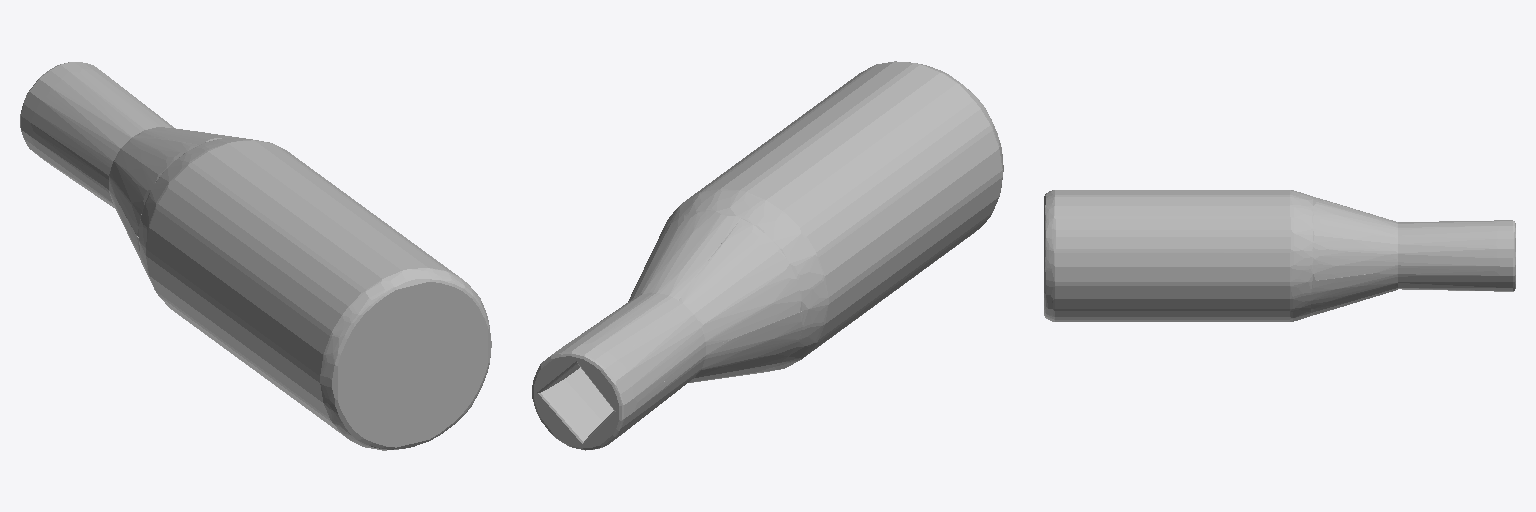
URDF robot description (root):
<robot name="root">
  <link name="link_coacd_convex_piece_0">
    <inertial>
      <origin xyz="0 0 0" rpy="0 0 0"/>
      <inertia ixx="1.54E-03" ixy="-2.03E-04" ixz="-1.68E-05" iyy="5.09E-05" iyz="-2.02E-04" izz="1.54E-03"/>
    </inertial>
    <visual>
      <origin xyz="0 0 0" rpy="0 0 0"/>
      <geometry>
        <mesh filename="coacd_convex_piece_0.obj" scale="1.0000E+00 1.0000E+00 1.0000E+00"/>
      </geometry>
      <material name="">
        <color rgba="7.50E-01 7.50E-01 7.50E-01 1"/>
      </material>
    </visual>
    <collision>
      <origin xyz="0 0 0" rpy="0 0 0"/>
      <geometry>
        <mesh filename="coacd_convex_piece_0.obj" scale="1.0000E+00 1.0000E+00 1.0000E+00"/>
      </geometry>
    </collision>
  </link>
  <link name="link_coacd_convex_piece_1">
    <inertial>
      <origin xyz="0 0 0" rpy="0 0 0"/>
      <inertia ixx="1.55E-03" ixy="2.02E-04" ixz="1.67E-05" iyy="5.11E-05" iyz="-2.04E-04" izz="1.55E-03"/>
    </inertial>
    <visual>
      <origin xyz="0 0 0" rpy="0 0 0"/>
      <geometry>
        <mesh filename="coacd_convex_piece_1.obj" scale="1.0000E+00 1.0000E+00 1.0000E+00"/>
      </geometry>
      <material name="">
        <color rgba="7.50E-01 7.50E-01 7.50E-01 1"/>
      </material>
    </visual>
    <collision>
      <origin xyz="0 0 0" rpy="0 0 0"/>
      <geometry>
        <mesh filename="coacd_convex_piece_1.obj" scale="1.0000E+00 1.0000E+00 1.0000E+00"/>
      </geometry>
    </collision>
  </link>
  <joint name="link_coacd_convex_piece_1_joint" type="fixed">
    <origin xyz="0 0 0" rpy="0 0 0"/>
    <parent link="link_coacd_convex_piece_0"/>
    <child link="link_coacd_convex_piece_1"/>
  </joint>
  <link name="link_coacd_convex_piece_2">
    <inertial>
      <origin xyz="0 0 0" rpy="0 0 0"/>
      <inertia ixx="1.82E-03" ixy="-2.09E-04" ixz="1.69E-05" iyy="5.80E-05" iyz="2.47E-04" izz="1.82E-03"/>
    </inertial>
    <visual>
      <origin xyz="0 0 0" rpy="0 0 0"/>
      <geometry>
        <mesh filename="coacd_convex_piece_2.obj" scale="1.0000E+00 1.0000E+00 1.0000E+00"/>
      </geometry>
      <material name="">
        <color rgba="7.50E-01 7.50E-01 7.50E-01 1"/>
      </material>
    </visual>
    <collision>
      <origin xyz="0 0 0" rpy="0 0 0"/>
      <geometry>
        <mesh filename="coacd_convex_piece_2.obj" scale="1.0000E+00 1.0000E+00 1.0000E+00"/>
      </geometry>
    </collision>
  </link>
  <joint name="link_coacd_convex_piece_2_joint" type="fixed">
    <origin xyz="0 0 0" rpy="0 0 0"/>
    <parent link="link_coacd_convex_piece_1"/>
    <child link="link_coacd_convex_piece_2"/>
  </joint>
  <link name="link_coacd_convex_piece_3">
    <inertial>
      <origin xyz="0 0 0" rpy="0 0 0"/>
      <inertia ixx="1.28E-03" ixy="1.90E-04" ixz="-1.55E-05" iyy="4.39E-05" iyz="1.59E-04" izz="1.29E-03"/>
    </inertial>
    <visual>
      <origin xyz="0 0 0" rpy="0 0 0"/>
      <geometry>
        <mesh filename="coacd_convex_piece_3.obj" scale="1.0000E+00 1.0000E+00 1.0000E+00"/>
      </geometry>
      <material name="">
        <color rgba="7.50E-01 7.50E-01 7.50E-01 1"/>
      </material>
    </visual>
    <collision>
      <origin xyz="0 0 0" rpy="0 0 0"/>
      <geometry>
        <mesh filename="coacd_convex_piece_3.obj" scale="1.0000E+00 1.0000E+00 1.0000E+00"/>
      </geometry>
    </collision>
  </link>
  <joint name="link_coacd_convex_piece_3_joint" type="fixed">
    <origin xyz="0 0 0" rpy="0 0 0"/>
    <parent link="link_coacd_convex_piece_2"/>
    <child link="link_coacd_convex_piece_3"/>
  </joint>
  <link name="link_coacd_convex_piece_4">
    <inertial>
      <origin xyz="0 0 0" rpy="0 0 0"/>
      <inertia ixx="2.83E-02" ixy="-1.47E-06" ixz="-4.84E-07" iyy="6.93E-03" iyz="-6.78E-06" izz="2.83E-02"/>
    </inertial>
    <visual>
      <origin xyz="0 0 0" rpy="0 0 0"/>
      <geometry>
        <mesh filename="coacd_convex_piece_4.obj" scale="1.0000E+00 1.0000E+00 1.0000E+00"/>
      </geometry>
      <material name="">
        <color rgba="7.50E-01 7.50E-01 7.50E-01 1"/>
      </material>
    </visual>
    <collision>
      <origin xyz="0 0 0" rpy="0 0 0"/>
      <geometry>
        <mesh filename="coacd_convex_piece_4.obj" scale="1.0000E+00 1.0000E+00 1.0000E+00"/>
      </geometry>
    </collision>
  </link>
  <joint name="link_coacd_convex_piece_4_joint" type="fixed">
    <origin xyz="0 0 0" rpy="0 0 0"/>
    <parent link="link_coacd_convex_piece_3"/>
    <child link="link_coacd_convex_piece_4"/>
  </joint>
  <link name="link_coacd_convex_piece_5">
    <inertial>
      <origin xyz="0 0 0" rpy="0 0 0"/>
      <inertia ixx="-1.95E-04" ixy="1.31E-04" ixz="-4.55E-05" iyy="1.36E-04" iyz="1.31E-04" izz="-1.94E-04"/>
    </inertial>
    <visual>
      <origin xyz="0 0 0" rpy="0 0 0"/>
      <geometry>
        <mesh filename="coacd_convex_piece_5.obj" scale="1.0000E+00 1.0000E+00 1.0000E+00"/>
      </geometry>
      <material name="">
        <color rgba="7.50E-01 7.50E-01 7.50E-01 1"/>
      </material>
    </visual>
    <collision>
      <origin xyz="0 0 0" rpy="0 0 0"/>
      <geometry>
        <mesh filename="coacd_convex_piece_5.obj" scale="1.0000E+00 1.0000E+00 1.0000E+00"/>
      </geometry>
    </collision>
  </link>
  <joint name="link_coacd_convex_piece_5_joint" type="fixed">
    <origin xyz="0 0 0" rpy="0 0 0"/>
    <parent link="link_coacd_convex_piece_4"/>
    <child link="link_coacd_convex_piece_5"/>
  </joint>
  <link name="link_coacd_convex_piece_6">
    <inertial>
      <origin xyz="0 0 0" rpy="0 0 0"/>
      <inertia ixx="-2.21E-04" ixy="-1.38E-04" ixz="-4.48E-05" iyy="1.63E-04" iyz="-1.86E-04" izz="-2.46E-04"/>
    </inertial>
    <visual>
      <origin xyz="0 0 0" rpy="0 0 0"/>
      <geometry>
        <mesh filename="coacd_convex_piece_6.obj" scale="1.0000E+00 1.0000E+00 1.0000E+00"/>
      </geometry>
      <material name="">
        <color rgba="7.50E-01 7.50E-01 7.50E-01 1"/>
      </material>
    </visual>
    <collision>
      <origin xyz="0 0 0" rpy="0 0 0"/>
      <geometry>
        <mesh filename="coacd_convex_piece_6.obj" scale="1.0000E+00 1.0000E+00 1.0000E+00"/>
      </geometry>
    </collision>
  </link>
  <joint name="link_coacd_convex_piece_6_joint" type="fixed">
    <origin xyz="0 0 0" rpy="0 0 0"/>
    <parent link="link_coacd_convex_piece_5"/>
    <child link="link_coacd_convex_piece_6"/>
  </joint>
  <link name="link_coacd_convex_piece_7">
    <inertial>
      <origin xyz="0 0 0" rpy="0 0 0"/>
      <inertia ixx="-1.44E-04" ixy="1.10E-04" ixz="3.66E-05" iyy="9.93E-05" iyz="-8.27E-05" izz="-1.25E-04"/>
    </inertial>
    <visual>
      <origin xyz="0 0 0" rpy="0 0 0"/>
      <geometry>
        <mesh filename="coacd_convex_piece_7.obj" scale="1.0000E+00 1.0000E+00 1.0000E+00"/>
      </geometry>
      <material name="">
        <color rgba="7.50E-01 7.50E-01 7.50E-01 1"/>
      </material>
    </visual>
    <collision>
      <origin xyz="0 0 0" rpy="0 0 0"/>
      <geometry>
        <mesh filename="coacd_convex_piece_7.obj" scale="1.0000E+00 1.0000E+00 1.0000E+00"/>
      </geometry>
    </collision>
  </link>
  <joint name="link_coacd_convex_piece_7_joint" type="fixed">
    <origin xyz="0 0 0" rpy="0 0 0"/>
    <parent link="link_coacd_convex_piece_6"/>
    <child link="link_coacd_convex_piece_7"/>
  </joint>
  <link name="link_coacd_convex_piece_8">
    <inertial>
      <origin xyz="0 0 0" rpy="0 0 0"/>
      <inertia ixx="-1.95E-04" ixy="-1.31E-04" ixz="4.55E-05" iyy="1.36E-04" iyz="1.31E-04" izz="-1.95E-04"/>
    </inertial>
    <visual>
      <origin xyz="0 0 0" rpy="0 0 0"/>
      <geometry>
        <mesh filename="coacd_convex_piece_8.obj" scale="1.0000E+00 1.0000E+00 1.0000E+00"/>
      </geometry>
      <material name="">
        <color rgba="7.50E-01 7.50E-01 7.50E-01 1"/>
      </material>
    </visual>
    <collision>
      <origin xyz="0 0 0" rpy="0 0 0"/>
      <geometry>
        <mesh filename="coacd_convex_piece_8.obj" scale="1.0000E+00 1.0000E+00 1.0000E+00"/>
      </geometry>
    </collision>
  </link>
  <joint name="link_coacd_convex_piece_8_joint" type="fixed">
    <origin xyz="0 0 0" rpy="0 0 0"/>
    <parent link="link_coacd_convex_piece_7"/>
    <child link="link_coacd_convex_piece_8"/>
  </joint>
</robot>

--- Render facts (derived) ---
Views: 3 orthographic renders of the robot side by side, from view 1: azimuth 30°, elevation 25°; view 2: azimuth 150°, elevation 25°; view 3: azimuth 270°, elevation 25°.
Robot: root — 9 links, 8 joints (8 fixed); root link link_coacd_convex_piece_0; default pose: every joint at zero.
Links seen in each view (by area): view 1: link_coacd_convex_piece_4, link_coacd_convex_piece_1, link_coacd_convex_piece_7, link_coacd_convex_piece_3, link_coacd_convex_piece_0, link_coacd_convex_piece_6; view 2: link_coacd_convex_piece_4, link_coacd_convex_piece_7, link_coacd_convex_piece_1, link_coacd_convex_piece_6, link_coacd_convex_piece_5, link_coacd_convex_piece_2, link_coacd_convex_piece_0, link_coacd_convex_piece_3; view 3: link_coacd_convex_piece_4, link_coacd_convex_piece_6, link_coacd_convex_piece_0, link_coacd_convex_piece_8, link_coacd_convex_piece_2.
Link boxes in pixels (<box>): link_coacd_convex_piece_4: <box>139,137,491,450</box>; link_coacd_convex_piece_1: <box>20,63,150,182</box>; link_coacd_convex_piece_7: <box>109,135,198,236</box>; link_coacd_convex_piece_3: <box>20,121,114,207</box>; link_coacd_convex_piece_0: <box>67,62,175,128</box>; link_coacd_convex_piece_6: <box>138,127,238,144</box>; link_coacd_convex_piece_4: <box>658,61,1003,372</box>; link_coacd_convex_piece_7: <box>679,219,801,348</box>; link_coacd_convex_piece_1: <box>577,294,705,412</box>; link_coacd_convex_piece_6: <box>628,211,740,301</box>; link_coacd_convex_piece_5: <box>689,311,803,382</box>; link_coacd_convex_piece_2: <box>532,367,613,449</box>; link_coacd_convex_piece_0: <box>532,293,662,392</box>; link_coacd_convex_piece_3: <box>583,350,705,450</box>; link_coacd_convex_piece_4: <box>1044,190,1312,321</box>; link_coacd_convex_piece_6: <box>1313,199,1397,280</box>; link_coacd_convex_piece_0: <box>1398,224,1515,270</box>; link_coacd_convex_piece_8: <box>1311,270,1397,315</box>; link_coacd_convex_piece_2: <box>1398,270,1515,291</box>.
Size in the robot's own frame: 0.5364 by 1.9 by 0.5364 metres.
Meshes: 9 distinct files referenced, 9 mesh visuals loaded (9 OBJ).